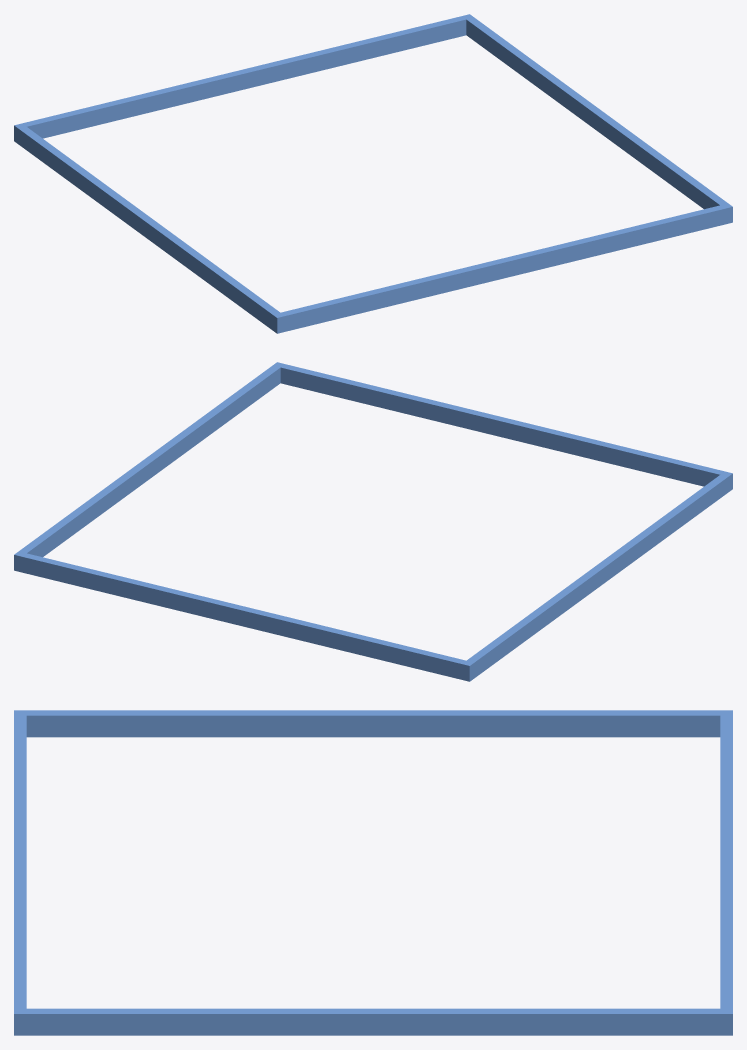
File: Spawner.fbx
3 renders of one model, top to bottom at view 1: azimuth 30°, elevation 25°; view 2: azimuth 150°, elevation 25°; view 3: azimuth 270°, elevation 25°, orthographic. The views are drawn at different scales.
Parts seen in each view (by area): view 1: Cube; view 2: Cube; view 3: Cube.
Part boxes in pixels (x1,y1,x2,y2): Cube: (14,14,732,333); Cube: (14,362,732,681); Cube: (14,710,732,1035).
Bounding box in the file's own units: 0.3767 × 0.0125 × 0.3767.
